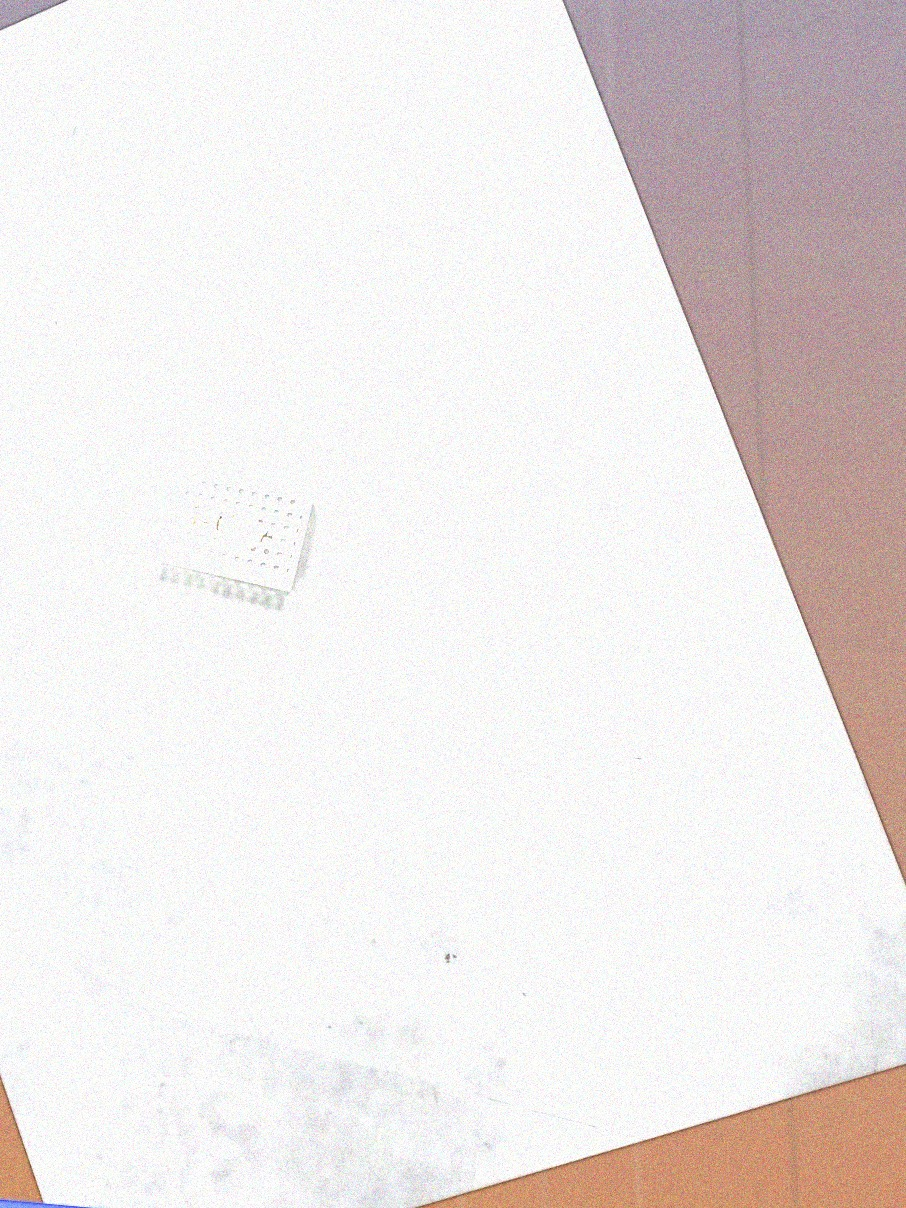basket: (149, 463, 318, 603)
